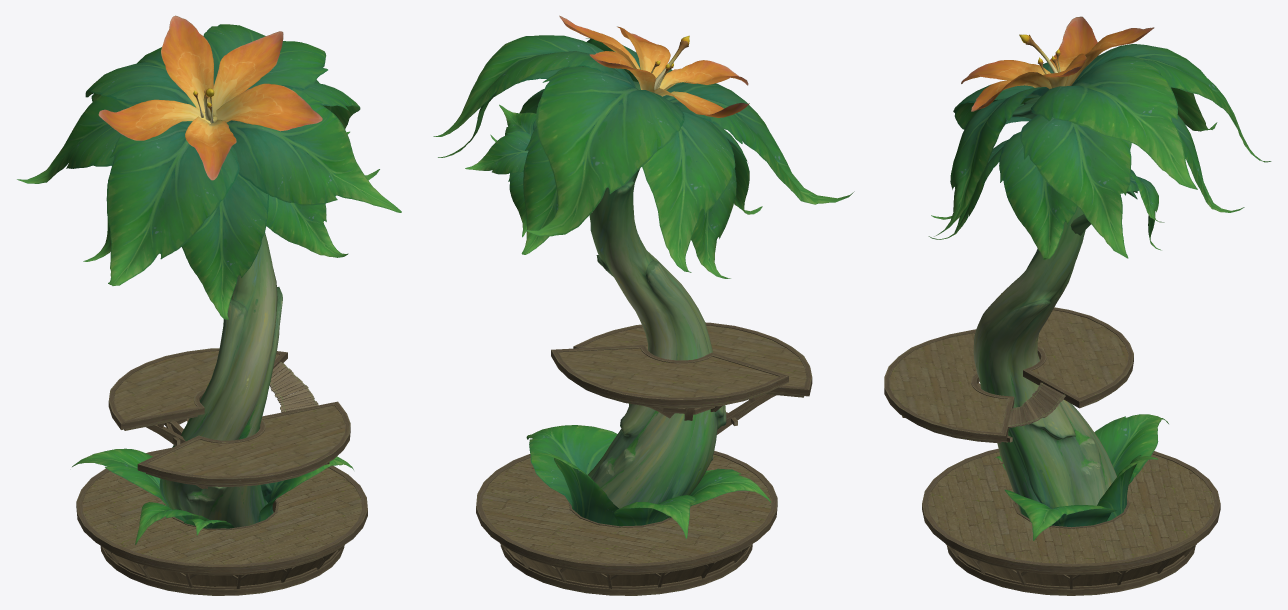
The model's file is Homeworld_Exterior_Xm_Build_House_01_Lod0.fbx.
The picture shows the model from 3 angles, left to right: view 1: azimuth 30°, elevation 25°; view 2: azimuth 150°, elevation 25°; view 3: azimuth 270°, elevation 25°; orthographic projection. The views are drawn at different scales.
Visible parts, largest first — view 1: Homeworld_Exterior_Xm_Build_House_01_B_Lod0, Homeworld_Exterior_Xm_Build_House_01_A_Lod0; view 2: Homeworld_Exterior_Xm_Build_House_01_B_Lod0, Homeworld_Exterior_Xm_Build_House_01_A_Lod0; view 3: Homeworld_Exterior_Xm_Build_House_01_B_Lod0, Homeworld_Exterior_Xm_Build_House_01_A_Lod0.
Boxes of the visible parts, <box> form: Homeworld_Exterior_Xm_Build_House_01_B_Lod0: <box>17,15,401,544</box>; Homeworld_Exterior_Xm_Build_House_01_A_Lod0: <box>76,348,367,595</box>; Homeworld_Exterior_Xm_Build_House_01_B_Lod0: <box>433,15,854,538</box>; Homeworld_Exterior_Xm_Build_House_01_A_Lod0: <box>476,322,812,595</box>; Homeworld_Exterior_Xm_Build_House_01_B_Lod0: <box>928,16,1271,540</box>; Homeworld_Exterior_Xm_Build_House_01_A_Lod0: <box>884,307,1220,595</box>.
Bounding box in the file's own units: 26.41 × 39.02 × 26.82.
